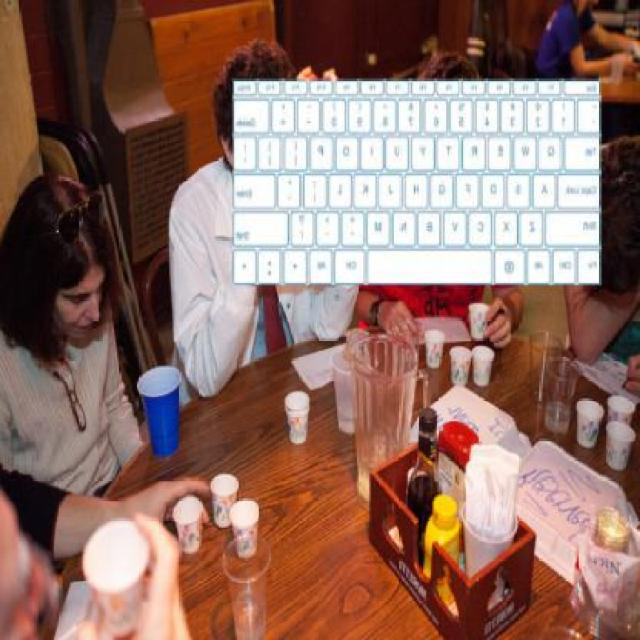keyboard: (226, 83, 601, 287)
